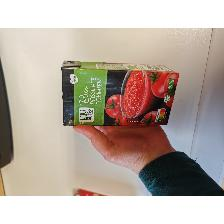Tomatensauce: (60, 59, 180, 127)
